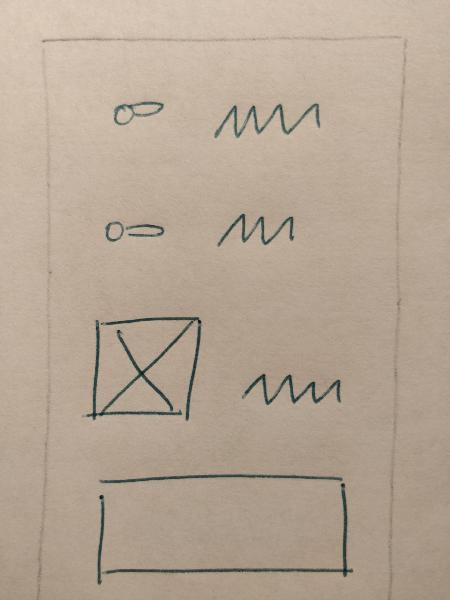image: (77, 310, 218, 428)
switch: (106, 90, 178, 132), (95, 214, 175, 248)
text: (236, 359, 352, 418), (203, 97, 334, 141), (205, 210, 310, 255)
text_input: (79, 463, 360, 587)
